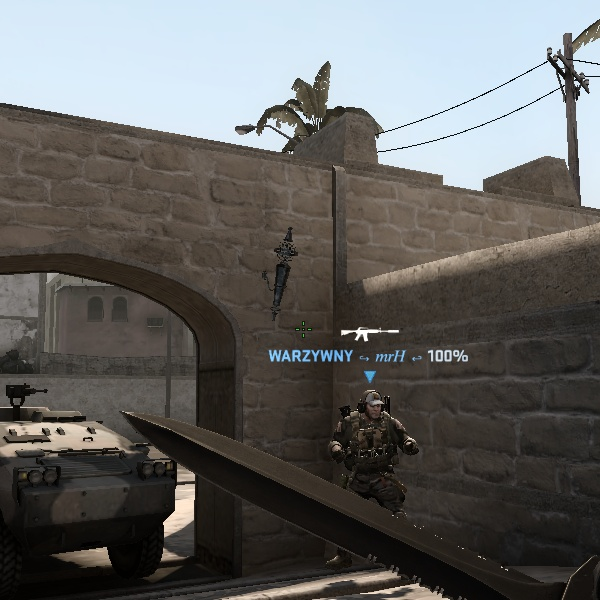ct_body: (322, 384, 422, 504)
ct_head: (353, 387, 391, 425)
